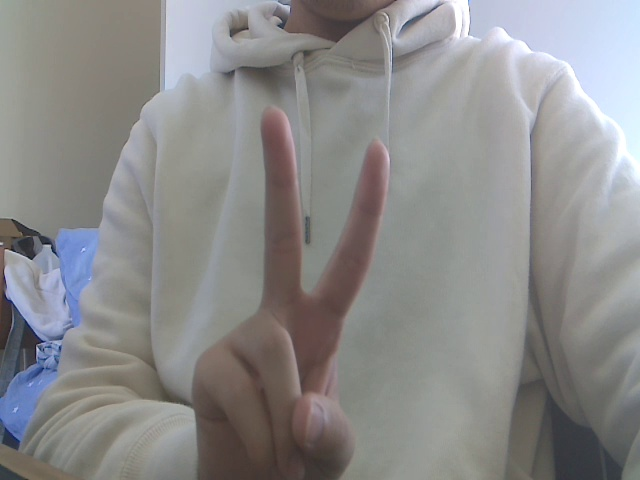hand_gesture_2: (168, 79, 422, 480)
